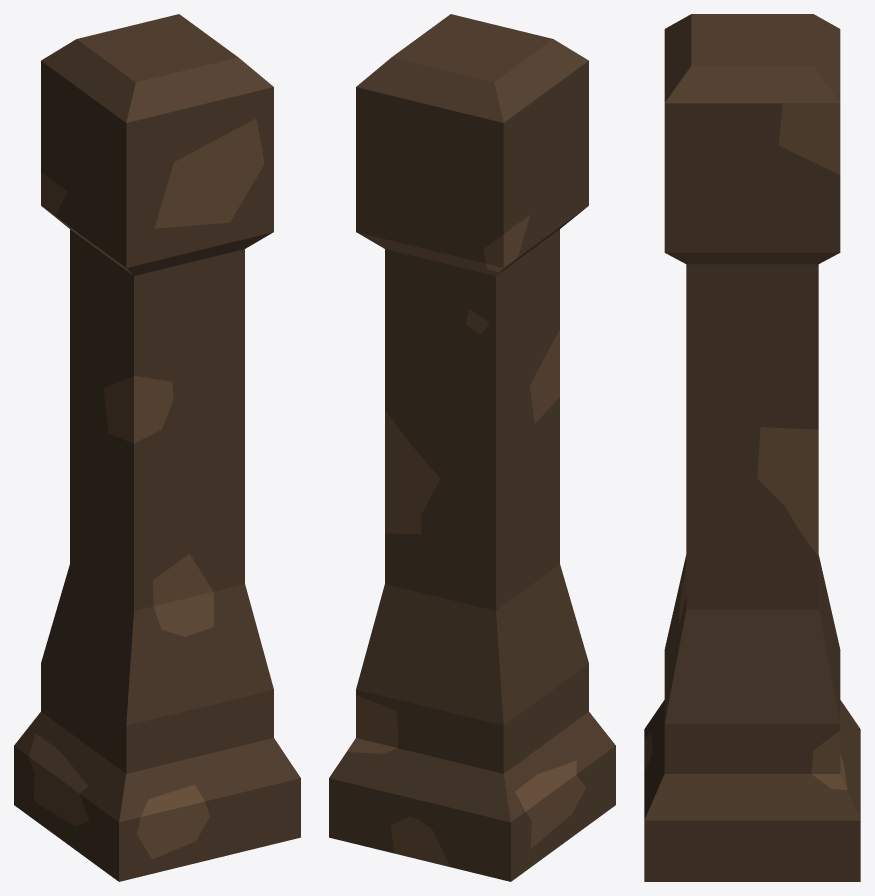
File: Ruin_4_Dark_Brown.fbx
3 views of the same model, side by side, from view 1: azimuth 30°, elevation 25°; view 2: azimuth 150°, elevation 25°; view 3: azimuth 270°, elevation 25° (orthographic). The views are drawn at different scales.
Visible parts, largest first — view 1: Ruin_4_Dark_Brown; view 2: Ruin_4_Dark_Brown; view 3: Ruin_4_Dark_Brown.
Boxes of the visible parts, x1=… form: Ruin_4_Dark_Brown: x1=14, y1=14, x2=300, y2=881; Ruin_4_Dark_Brown: x1=329, y1=14, x2=615, y2=881; Ruin_4_Dark_Brown: x1=644, y1=14, x2=860, y2=881.
Size of the model in its own units: 98.48 by 400 by 98.48.
